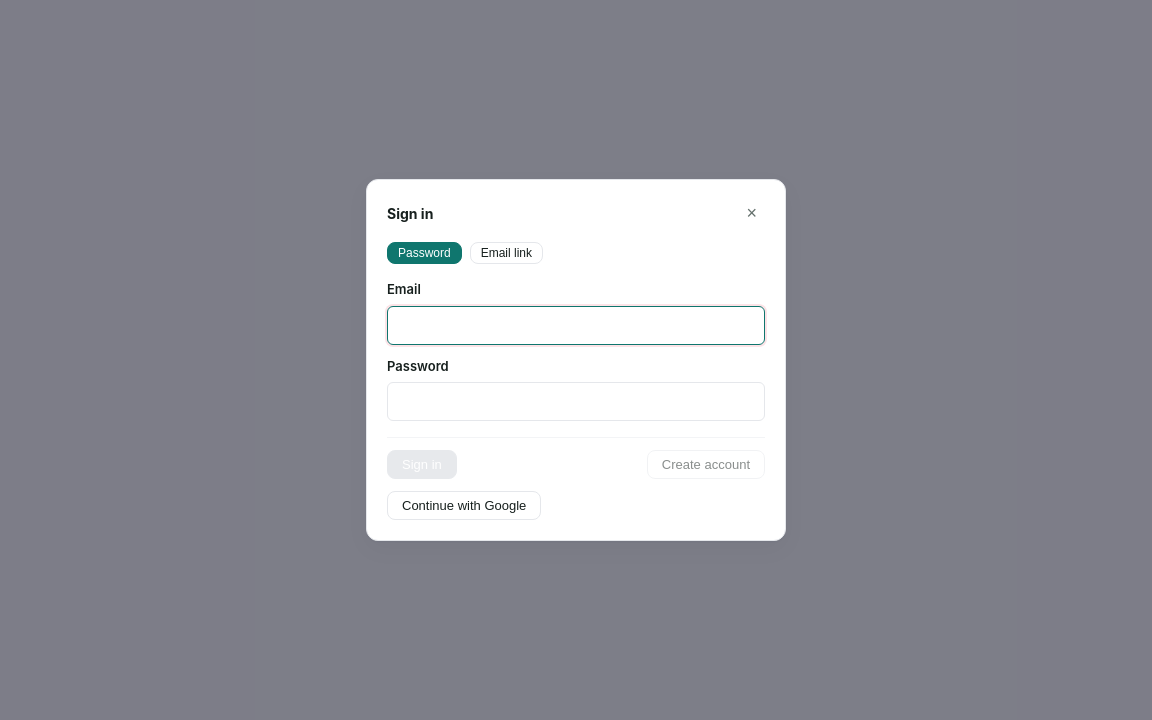
Test: AuthModal › starts Supabase-managed Google OAuth with a same-origin return URL
Click the button with test id "site-auth-google" at point(464, 506), box [387,491,541,520]
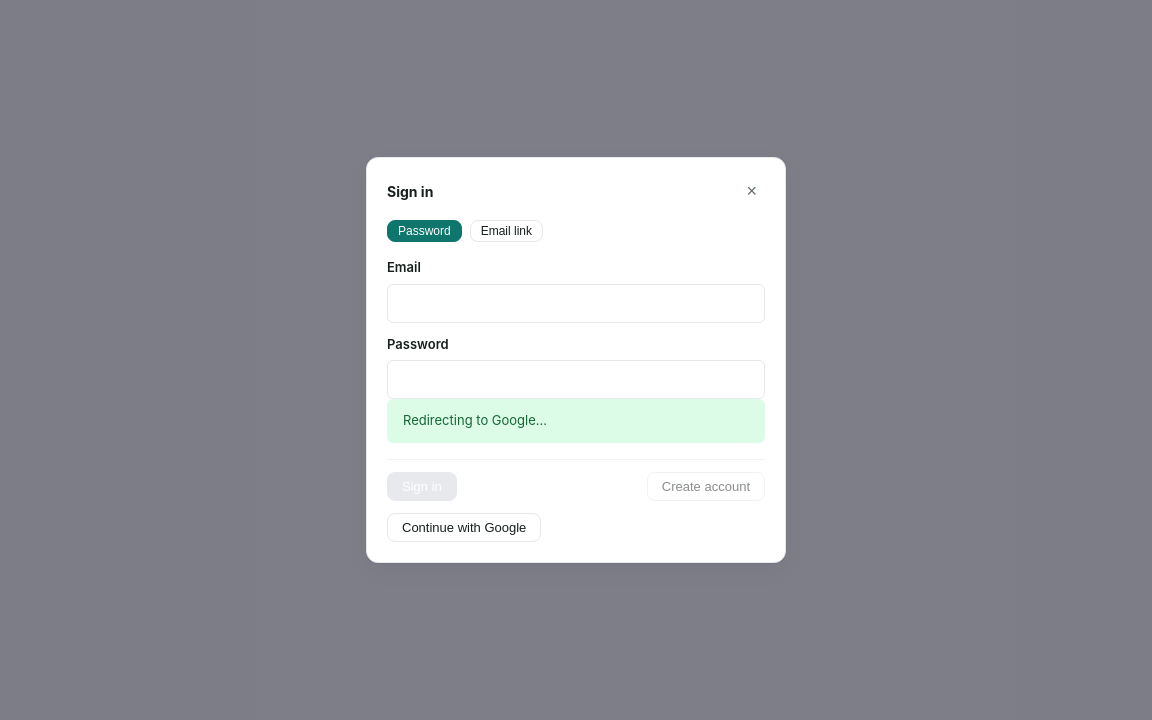
Expected: the text "Redirecting to Google…" is shown, [387,399,765,443]
